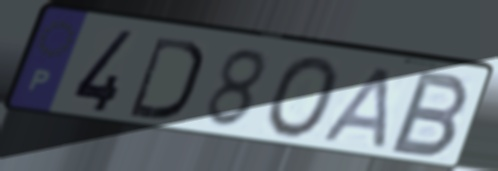4: (69, 28, 134, 116)
8: (200, 46, 270, 131)
A: (318, 64, 397, 152)
B: (384, 68, 473, 160)
D: (125, 33, 206, 124)
O: (262, 54, 341, 141)
